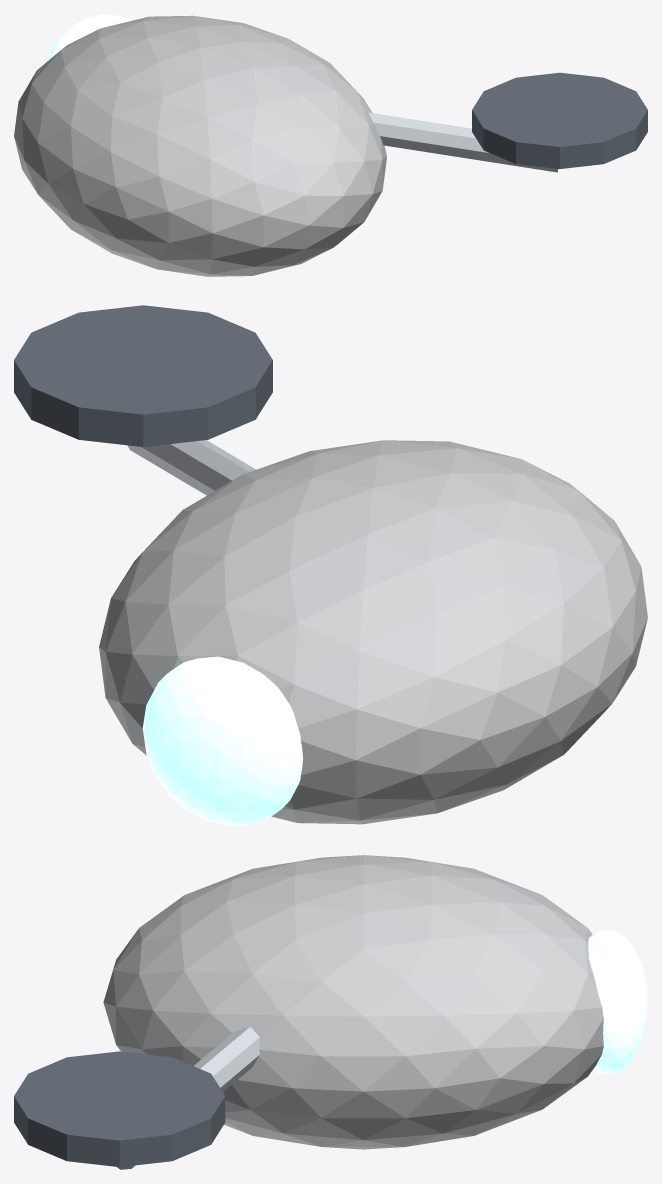
Rendered from dron_recolector.glb.
3 renders of one model, top to bottom at view 1: azimuth 30°, elevation 25°; view 2: azimuth 150°, elevation 25°; view 3: azimuth 270°, elevation 25°, orthographic. The views are drawn at different scales.
Visible parts, largest first — view 1: cuerpo, rotor, brazo, ojo; view 2: cuerpo, rotor, ojo, brazo; view 3: cuerpo, rotor, ojo, brazo.
Boxes of the visible parts, <box> form: cuerpo: <box>14,15,386,276</box>; rotor: <box>472,72,647,168</box>; brazo: <box>368,112,558,172</box>; ojo: <box>47,14,130,61</box>; cuerpo: <box>99,440,647,824</box>; rotor: <box>14,305,272,446</box>; ojo: <box>142,656,303,826</box>; brazo: <box>127,440,255,495</box>; cuerpo: <box>103,855,603,1149</box>; rotor: <box>14,1051,225,1167</box>; ojo: <box>588,929,647,1074</box>; brazo: <box>117,1027,259,1169</box>.
Bounding box in the file's own units: 0.9 × 0.347 × 0.8458.
